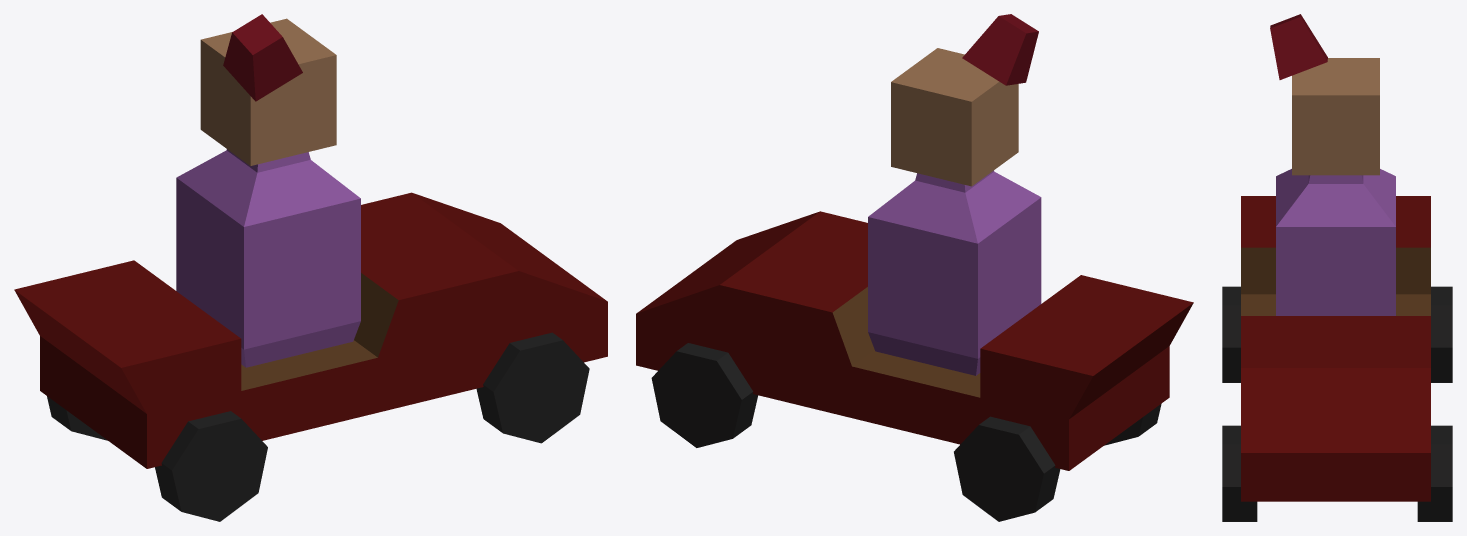
3 views of the same model, side by side, from view 1: azimuth 30°, elevation 25°; view 2: azimuth 150°, elevation 25°; view 3: azimuth 270°, elevation 25° (orthographic). The views are drawn at different scales.
Parts seen in each view (by area): view 1: p1.003; view 2: p1.003; view 3: p1.003.
Part boxes in pixels (left/top/right/bottom): p1.003: left=14, top=14, right=607, bottom=521; p1.003: left=636, top=14, right=1193, bottom=521; p1.003: left=1222, top=14, right=1452, bottom=521.
Size of the model in its own units: 60.53 by 54.05 by 27.98.
